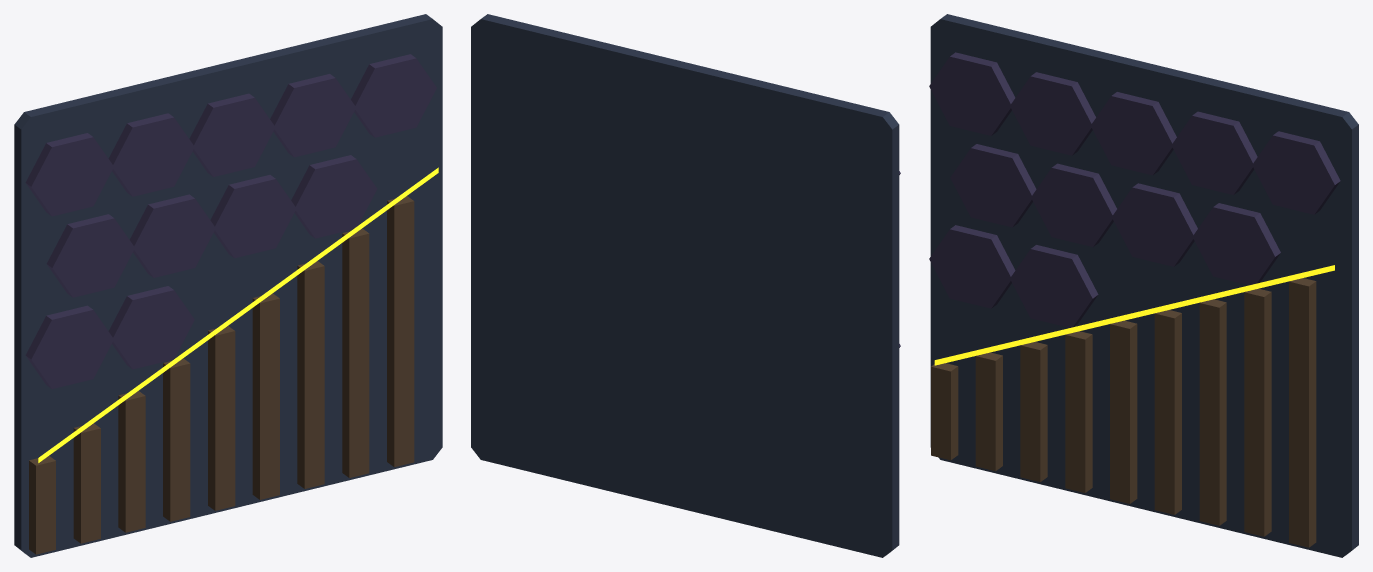
The model's file is off_acoustic_wall_panel.glb.
The picture shows the model from 3 angles, left to right: view 1: azimuth 30°, elevation 25°; view 2: azimuth 150°, elevation 25°; view 3: azimuth 330°, elevation 25°; orthographic projection.
Visible parts, largest first — view 1: backing, felt_tile, walnut_batten, diagonal_inlay; view 2: backing; view 3: backing, felt_tile, walnut_batten, diagonal_inlay.
Boxes of the visible parts, x1,y1,x2,y2 form: backing: [14, 14, 442, 557]; felt_tile: [25, 54, 436, 388]; walnut_batten: [29, 196, 414, 554]; diagonal_inlay: [38, 167, 438, 462]; backing: [471, 14, 899, 557]; backing: [930, 14, 1358, 557]; felt_tile: [929, 52, 1340, 327]; walnut_batten: [931, 278, 1316, 547]; diagonal_inlay: [934, 265, 1334, 365].
Size of the model in its own units: 2.4 by 2.4 by 0.14.
